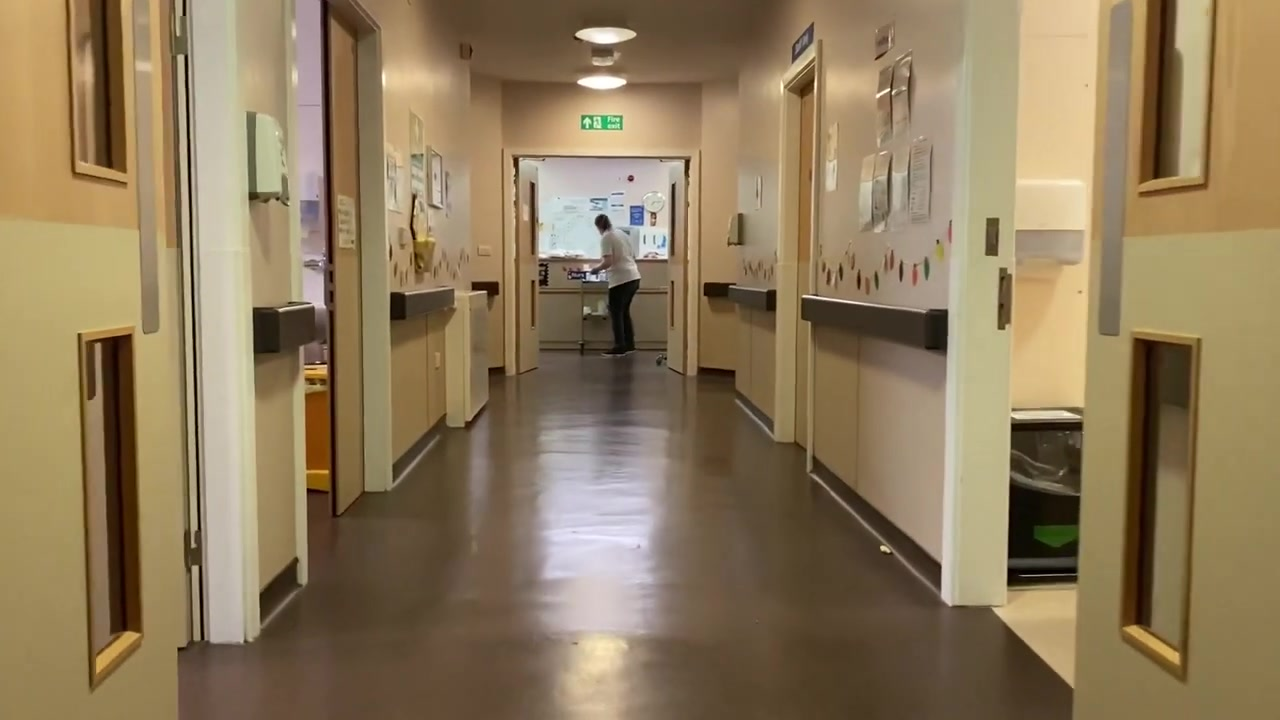dispenser: (1015, 179, 1087, 269), (246, 109, 289, 203), (724, 213, 743, 246)
hallway_assist_bar: (801, 292, 948, 352), (252, 300, 315, 355), (389, 285, 454, 320), (727, 285, 777, 313)
staff: (590, 215, 641, 357)
utility_cart: (578, 271, 612, 356)
waste_bin: (1012, 405, 1085, 587)
